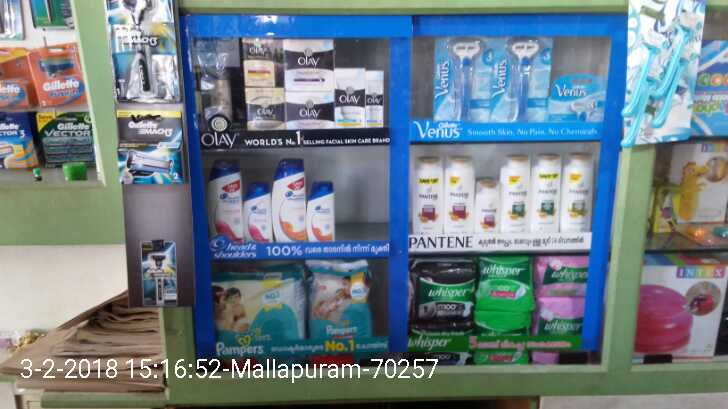gillete: (113, 1, 176, 97), (117, 108, 177, 181), (45, 104, 94, 170), (32, 47, 75, 109), (140, 239, 175, 308), (1, 58, 31, 108), (1, 117, 28, 170), (2, 1, 23, 37), (39, 1, 54, 26)
venus: (625, 6, 703, 142), (435, 36, 494, 118), (494, 40, 542, 118), (556, 77, 607, 122)
